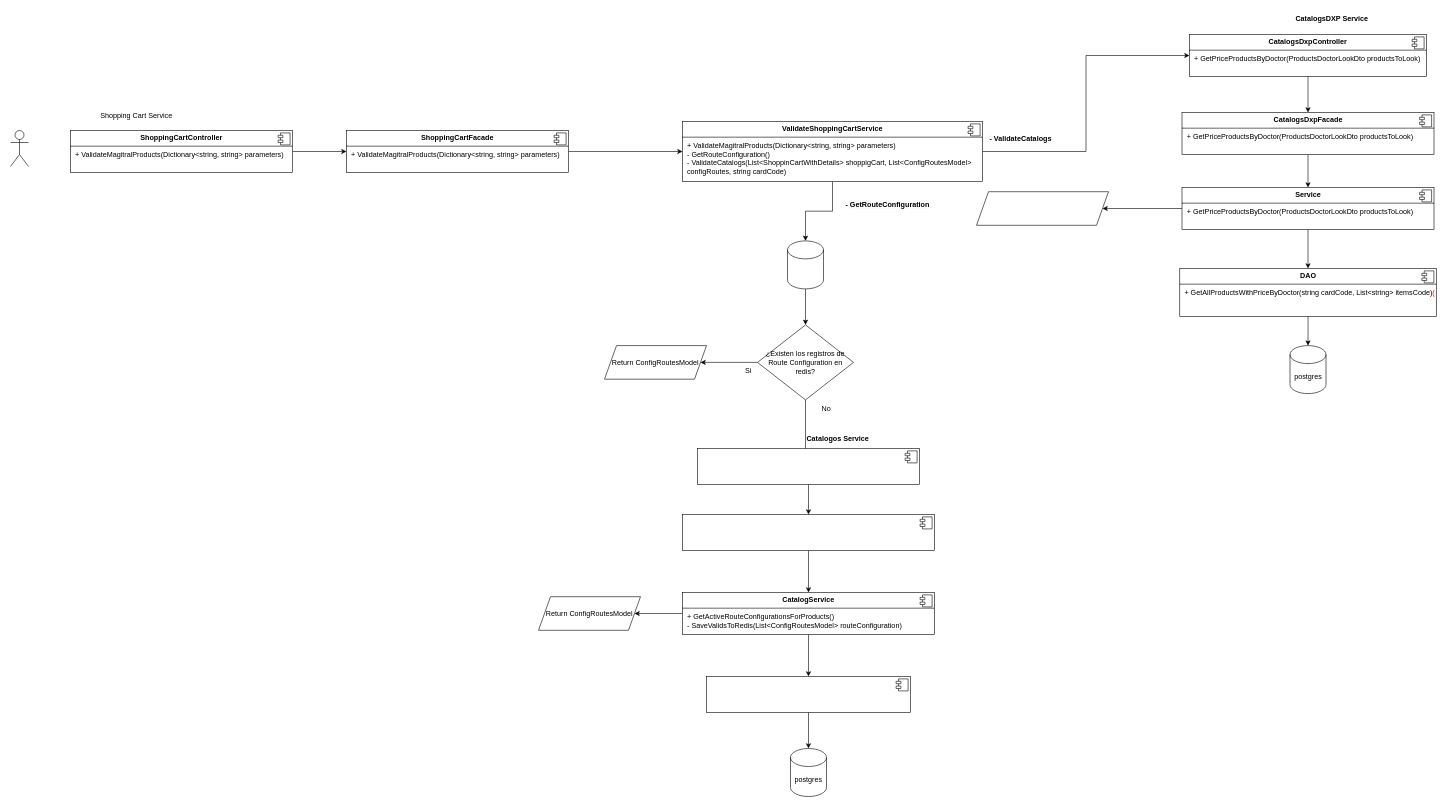
This 1447x807 diagram has some shape labels left out. The shapes that lost their labels are listed below. From the top down, each one's centre as x and y in pixels, then its label:
At point 19,148: "Actor".
At point 1042,208: "Return CompleteProductsWithPriceModel".
At point 805,264: "redis".
At point 808,466: "CatalogController + GetActiveRouteConfigurationsForProducts()".
At point 808,532: "CatalogFacade + GetActiveRouteConfigurationsForProducts()".
At point 808,694: "DAO + GetConfigRoutesModel() (".
